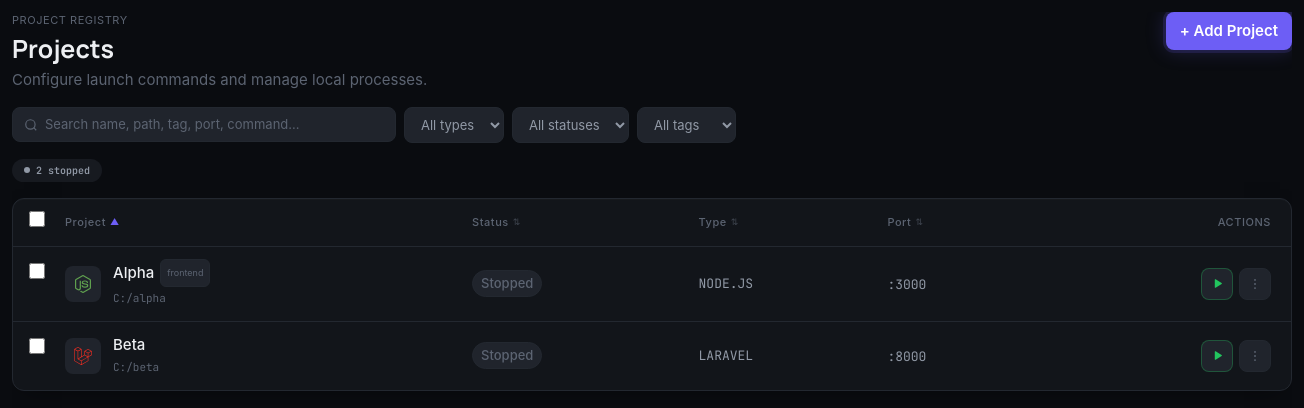
Test: ProjectsView › clear filters resets search, type, status, and tag filters
Select "frontend" in the dropdown named "Filter by tag" at (686, 124), box [637,106,736,142]
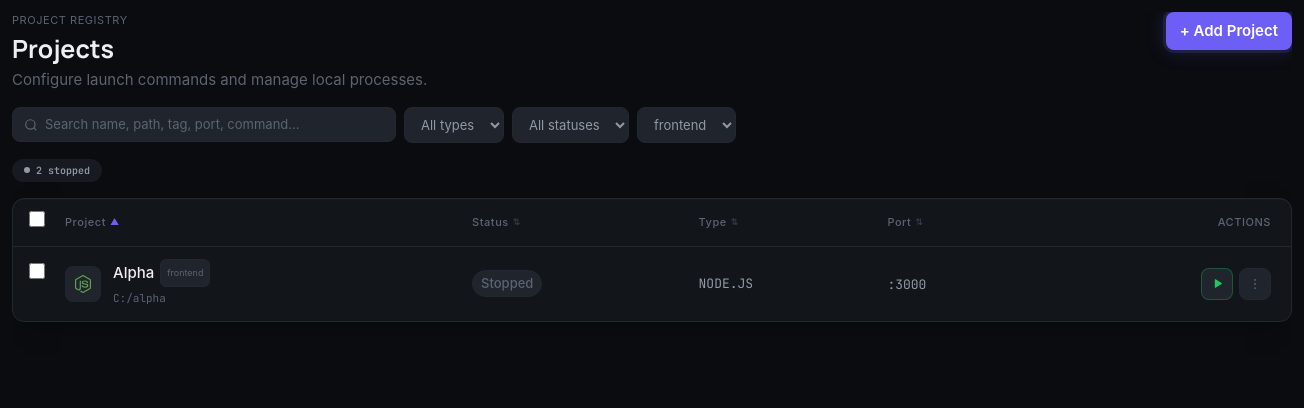
Type "zzz" into the search field named "Search projects" at (204, 124), box [12,107,396,142]
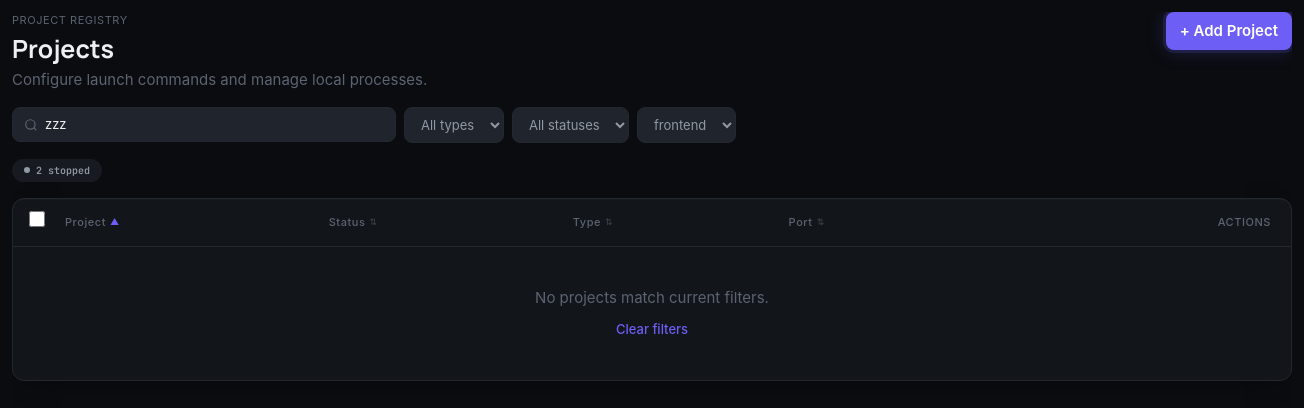
Result: the text "No projects match current filters." is shown at [535,288,769,306]
Click the button "Clear filters" at (652, 329), box [616,320,688,338]
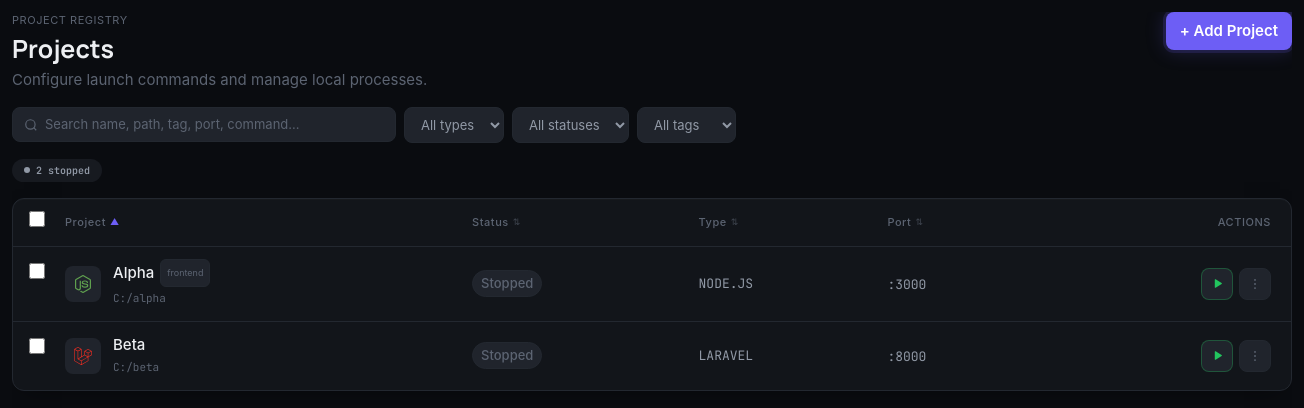
Result: the text "No projects match current filters." is gone
Result: the text "Alpha" is shown at [113,262,154,284]
Result: the text "Beta" is shown at [113,334,145,356]
